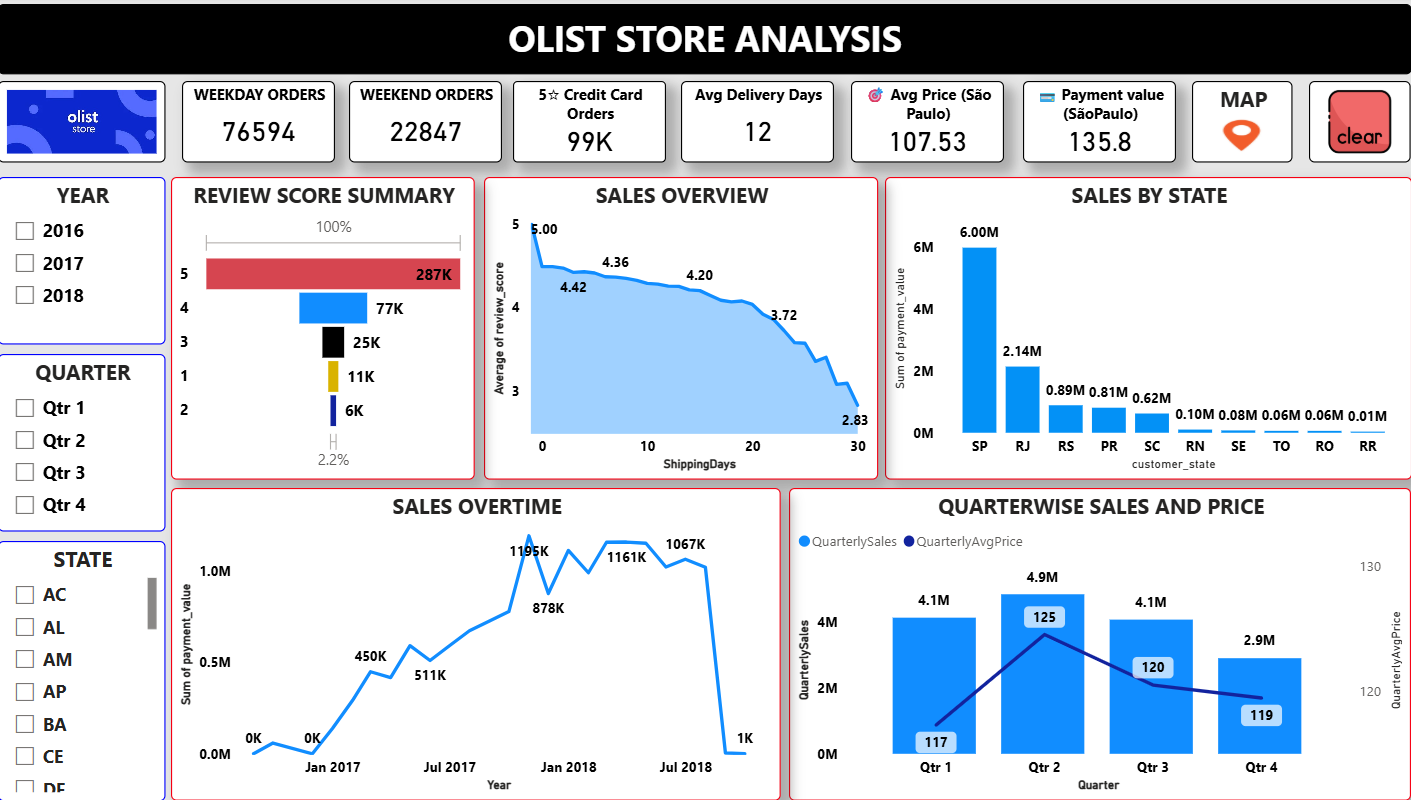

The dashboard page shown, as its layout file describes it:
{"tool":"powerbi","page":{"name":"DASHBOARD","canvas":[1280,720],"ordinal":2},"visuals":[{"type":"card","title":"WEEKDAY ORDERS","fields":{"Values":["olist_orders_dataset.WeekdayOrders"]},"box":[164.8,75.2,137,72.5],"z":0},{"type":"card","title":"WEEKEND ORDERS","fields":{"Values":["olist_orders_dataset.WeekendOrders"]},"box":[314.3,75.2,137,72.5],"z":1000},{"type":"card","title":"5☆ Credit Card Orders","fields":{"Values":["olist_orders_dataset.FiveStarCreditOrders"]},"box":[461.2,75.2,137,72.5],"z":2000},{"type":"card","title":"Avg Delivery Days","fields":{"Values":["Avg(olist_orders_dataset.DeliveryDays)"]},"box":[611.6,75.2,137,72.5],"z":3000},{"type":"card","title":"🎯 Avg Price (São Paulo)\n","fields":{"Values":["olist_orders_dataset.AvgPriceSP"]},"box":[763.9,75.2,137,72.5],"z":4000},{"type":"card","title":"💳 Payment value (SãoPaulo)","fields":{"Values":["olist_orders_dataset.PaymentSP"]},"box":[917.9,75.2,137,72.5],"z":5000},{"type":"clusteredColumnChart","title":"SALES BY STATE","fields":{"Category":["olist_customers_dataset.customer_state"],"Y":["Sum(olist_order_payments_dataset.payment_value)"]},"box":[794.2,161.3,471.7,271.1],"z":6000},{"type":"areaChart","title":"SALES OVERVIEW","fields":{"Category":["olist_orders_dataset.ShippingDays"],"Y":["Avg(olist_order_reviews_dataset.review_score)"]},"box":[435.4,161.3,352.8,271.1],"z":7000},{"type":"funnel","title":"REVIEW SCORE SUMMARY","fields":{"Y":["Sum(olist_order_reviews_dataset.review_score)"],"Category":["olist_order_reviews_dataset.review_score"]},"box":[155.2,161.3,272.1,271.1],"z":8000},{"type":"lineClusteredColumnComboChart","title":"QUARTERWISE SALES AND PRICE","fields":{"Category":["olist_orders_dataset.order_purchase_timestamp.Variation.Date Hierarchy.Quarter"],"Y":["olist_orders_dataset.QuarterlySales"],"Y2":["olist_orders_dataset.QuarterlyAvgPrice"]},"box":[708.5,439.4,557.4,280.2],"z":9000},{"type":"lineChart","title":"SALES OVERTIME","fields":{"Y":["Sum(olist_order_payments_dataset.payment_value)"],"Category":["olist_orders_dataset.order_purchase_timestamp.Variation.Date Hierarchy.Year","olist_orders_dataset.order_purchase_timestamp.Variation.Date Hierarchy.Quarter","olist_orders_dataset.order_purchase_timestamp.Variation.Date Hierarchy.Month"]},"box":[155.2,439.4,546.3,280.2],"z":10000},{"type":"slicer","title":"YEAR","fields":{"Values":["olist_orders_dataset.order_purchase_timestamp.Variation.Date Hierarchy.Year"]},"box":[0,161.3,150.2,150.2],"z":11000},{"type":"slicer","title":"QUARTER","fields":{"Values":["olist_orders_dataset.order_purchase_timestamp.Variation.Date Hierarchy.Quarter"]},"box":[0,319.5,150.2,159.2],"z":12000},{"type":"slicer","title":"STATE","fields":{"Values":["olist_customers_dataset.customer_state"]},"box":[0,486.8,150.2,232.8],"z":13000},{"type":"image","title":"MAP","box":[1069.3,75.2,90.4,72.5],"z":14000},{"type":"image","box":[1174,75.2,91.3,72.5],"z":15000},{"type":"image","box":[0,75.2,150.4,72.5],"z":16000},{"type":"textbox","box":[0,6.3,1266.3,62.7],"z":17000}]}

Visuals, with their boxes in screenshot pixels (x1, y1, x2, y2), scaled from the page's 1280x720 canvas onto the 1411x800 screenshot:
"WEEKDAY ORDERS" card: Rect(182, 84, 333, 164)
"WEEKEND ORDERS" card: Rect(346, 84, 497, 164)
"5☆ Credit Card Orders" card: Rect(508, 84, 659, 164)
"Avg Delivery Days" card: Rect(674, 84, 825, 164)
"🎯 Avg Price (São Paulo)
" card: Rect(842, 84, 993, 164)
"💳 Payment value (SãoPaulo)" card: Rect(1012, 84, 1163, 164)
"SALES BY STATE" clusteredColumnChart: Rect(875, 179, 1395, 480)
"SALES OVERVIEW" areaChart: Rect(480, 179, 869, 480)
"REVIEW SCORE SUMMARY" funnel: Rect(171, 179, 471, 480)
"QUARTERWISE SALES AND PRICE" lineClusteredColumnComboChart: Rect(781, 488, 1395, 799)
"SALES OVERTIME" lineChart: Rect(171, 488, 773, 799)
"YEAR" slicer: Rect(0, 179, 166, 346)
"QUARTER" slicer: Rect(0, 355, 166, 532)
"STATE" slicer: Rect(0, 541, 166, 799)
"MAP" image: Rect(1179, 84, 1278, 164)
image: Rect(1294, 84, 1395, 164)
image: Rect(0, 84, 166, 164)
textbox: Rect(0, 7, 1396, 77)
